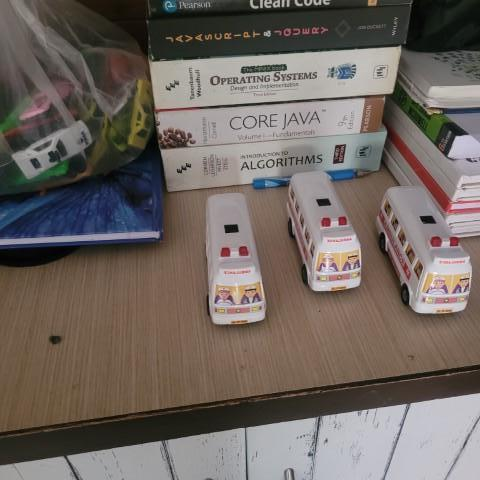ambulance: (375, 179, 473, 319), (281, 166, 364, 299), (202, 191, 267, 328)
